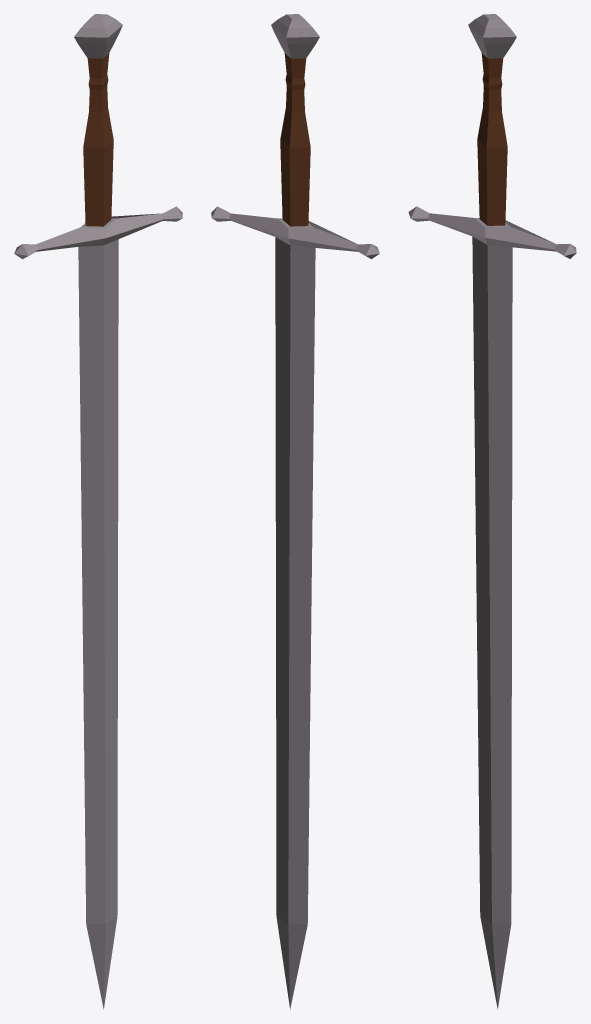
File: sword.fbx
The picture shows the model from 3 angles, left to right: view 1: azimuth 30°, elevation 25°; view 2: azimuth 150°, elevation 25°; view 3: azimuth 330°, elevation 25°; orthographic projection.
Parts seen in each view (by area): view 1: Cube, Cube.001, Cube.002; view 2: Cube, Cube.001, Cube.002; view 3: Cube, Cube.001, Cube.002.
Part boxes in pixels (box(x1,y1,x2,y2)): Cube: box(14, 206, 182, 1009); Cube.001: box(83, 53, 113, 226); Cube.002: box(74, 14, 122, 58); Cube: box(211, 206, 379, 1009); Cube.001: box(280, 53, 310, 226); Cube.002: box(271, 14, 319, 58); Cube: box(408, 206, 576, 1009); Cube.001: box(477, 53, 507, 225); Cube.002: box(468, 14, 516, 58).
Size of the model in its own units: 72.77 by 410 by 14.12.
